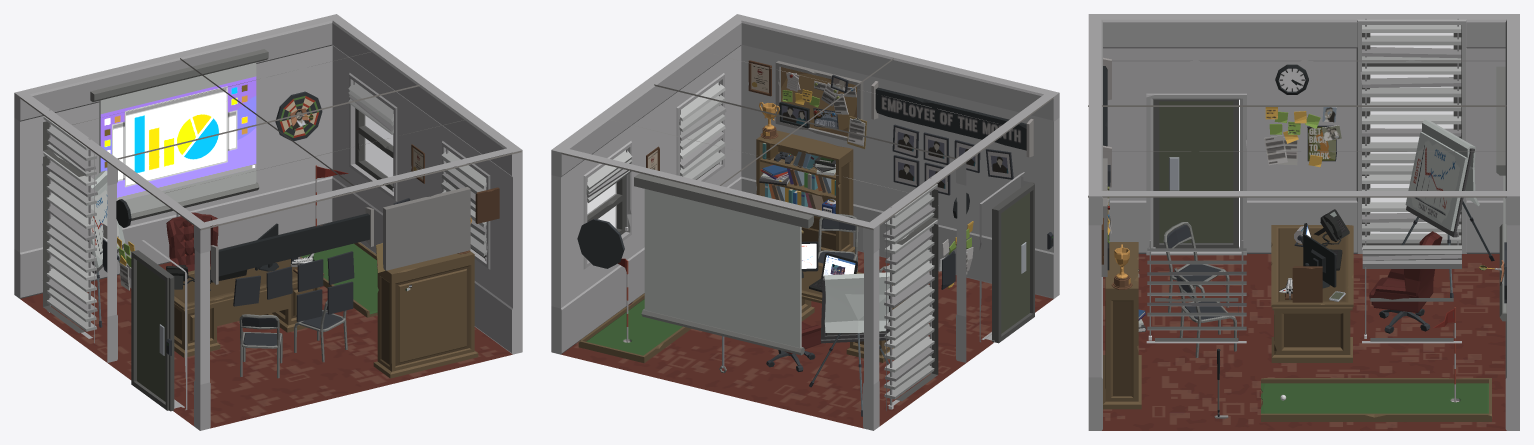
File: Office.glb
The picture shows the model from 3 angles, left to right: view 1: azimuth 30°, elevation 25°; view 2: azimuth 150°, elevation 25°; view 3: azimuth 270°, elevation 25°; orthographic projection. The views are drawn at different scales.
Parts seen in each view (by area): view 1: SM_Bld_Wall_Baseboard_01 (12), SM_Prop_ProjectorScreen_02_Down (1), SM_Bld_Wall_Baseboard_Window_01, SM_Bld_Wall_Baseboard_Window_01 (1), SM_Prop_Shelf_05, SM_Bld_Floor_Carpet_01 (80), SM_Prop_Employee_Wall_01, SM_Bld_Wall_Window_Blinds_Open_04 (1), SM_Prop_WallDressing_03 (3), SM_Bld_Door_04, SM_Bld_Floor_Carpet_01 (83), SM_Bld_Wall_Baseboard_Window_04 (3) (+17 smaller); view 2: SM_Bld_Wall_Baseboard_01 (114), SM_Prop_ProjectorScreen_02_Down (1), SM_Bld_Wall_Baseboard_Window_01, SM_Bld_Floor_Carpet_01 (79), SM_Bld_Wall_Baseboard_Window_01 (1), SM_Bld_Wall_Window_Blinds_Open_04 (1), SM_Prop_Employee_Wall_01, SM_Prop_WallDressing_03 (3), SM_Bld_Door_04, SM_Bld_Floor_Carpet_01 (82), SM_Bld_Wall_Baseboard_Window_04 (3), SM_Prop_Shelf_05 (+22 smaller); view 3: SM_Bld_Wall_Baseboard_Door_01 (22), SM_Bld_Wall_Baseboard_Window_04 (3), SM_Bld_Wall_Window_Blinds_Open_04 (1), SM_Bld_Floor_Carpet_01 (83), SM_Bld_Door_04, SM_Prop_Minigolf_Green_01, SM_Bld_Floor_Carpet_01 (82), SM_Prop_Desk_03, SM_Bld_Floor_Carpet_01 (79), SM_Bld_Floor_Carpet_01 (80), SM_Bld_Wall_Baseboard_01 (114), SM_Bld_Wall_Baseboard_01 (12) (+22 smaller).
Boxes of the visible parts, x1=… form: SM_Bld_Wall_Baseboard_01 (12): x1=14, y1=16, x2=332, y2=298; SM_Prop_ProjectorScreen_02_Down (1): x1=90, y1=49, x2=268, y2=220; SM_Bld_Wall_Baseboard_Window_01: x1=327, y1=14, x2=429, y2=254; SM_Bld_Wall_Baseboard_Window_01 (1): x1=419, y1=82, x2=522, y2=354; SM_Prop_Shelf_05: x1=373, y1=251, x2=478, y2=378; SM_Bld_Floor_Carpet_01 (80): x1=108, y1=328, x2=360, y2=428; SM_Prop_Employee_Wall_01: x1=210, y1=207, x2=373, y2=321; SM_Bld_Wall_Window_Blinds_Open_04 (1): x1=42, y1=109, x2=97, y2=331; SM_Prop_WallDressing_03 (3): x1=376, y1=187, x2=499, y2=272; SM_Bld_Door_04: x1=131, y1=250, x2=174, y2=411; SM_Bld_Floor_Carpet_01 (83): x1=276, y1=308, x2=512, y2=391; SM_Bld_Wall_Baseboard_Window_04 (3): x1=15, y1=90, x2=117, y2=362; SM_Bld_Wall_Baseboard_01 (114): x1=741, y1=16, x2=1059, y2=298; SM_Prop_ProjectorScreen_02_Down (1): x1=634, y1=173, x2=813, y2=373; SM_Bld_Wall_Baseboard_Window_01: x1=551, y1=82, x2=654, y2=354; SM_Bld_Floor_Carpet_01 (79): x1=713, y1=324, x2=965, y2=428; SM_Bld_Wall_Baseboard_Window_01 (1): x1=644, y1=14, x2=746, y2=190; SM_Bld_Wall_Window_Blinds_Open_04 (1): x1=883, y1=177, x2=938, y2=409; SM_Prop_Employee_Wall_01: x1=871, y1=81, x2=1033, y2=195; SM_Prop_WallDressing_03 (3): x1=748, y1=60, x2=866, y2=148; SM_Bld_Door_04: x1=992, y1=182, x2=1034, y2=343; SM_Bld_Floor_Carpet_01 (82): x1=561, y1=302, x2=771, y2=391; SM_Bld_Wall_Baseboard_Window_04 (3): x1=863, y1=158, x2=966, y2=430; SM_Prop_Shelf_05: x1=756, y1=130, x2=854, y2=252; SM_Bld_Wall_Baseboard_Door_01 (22): x1=1088, y1=14, x2=1304, y2=255; SM_Bld_Wall_Baseboard_Window_04 (3): x1=1304, y1=14, x2=1519, y2=253; SM_Bld_Wall_Window_Blinds_Open_04 (1): x1=1362, y1=18, x2=1461, y2=245; SM_Bld_Floor_Carpet_01 (83): x1=1102, y1=339, x2=1304, y2=430; SM_Bld_Door_04: x1=1153, y1=99, x2=1238, y2=248; SM_Prop_Minigolf_Green_01: x1=1261, y1=378, x2=1491, y2=421; SM_Bld_Floor_Carpet_01 (82): x1=1304, y1=339, x2=1506, y2=430; SM_Prop_Desk_03: x1=1271, y1=225, x2=1353, y2=362; SM_Bld_Floor_Carpet_01 (79): x1=1350, y1=254, x2=1505, y2=339; SM_Bld_Floor_Carpet_01 (80): x1=1103, y1=254, x2=1273, y2=339; SM_Bld_Wall_Baseboard_01 (114): x1=1088, y1=19, x2=1102, y2=430; SM_Bld_Wall_Baseboard_01 (12): x1=1505, y1=19, x2=1519, y2=430.
Size of the model in its own units: 63.87 by 37.06 by 61.49.
5 materials, 4 textured.
